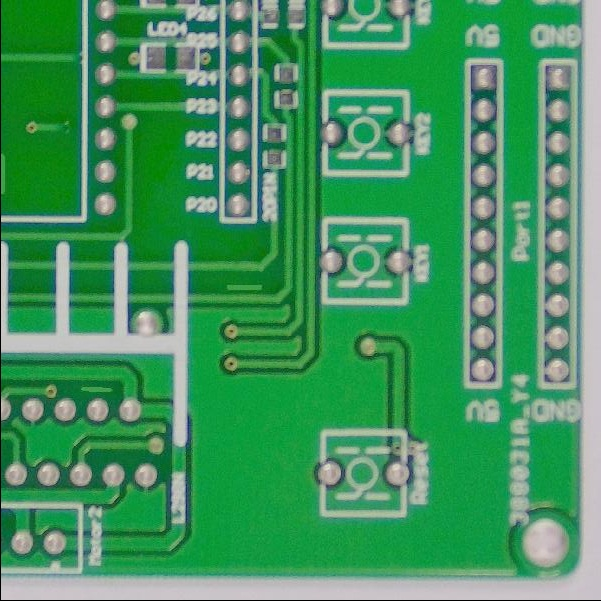spurious_copper: (219, 279, 267, 300), (75, 381, 122, 402)
